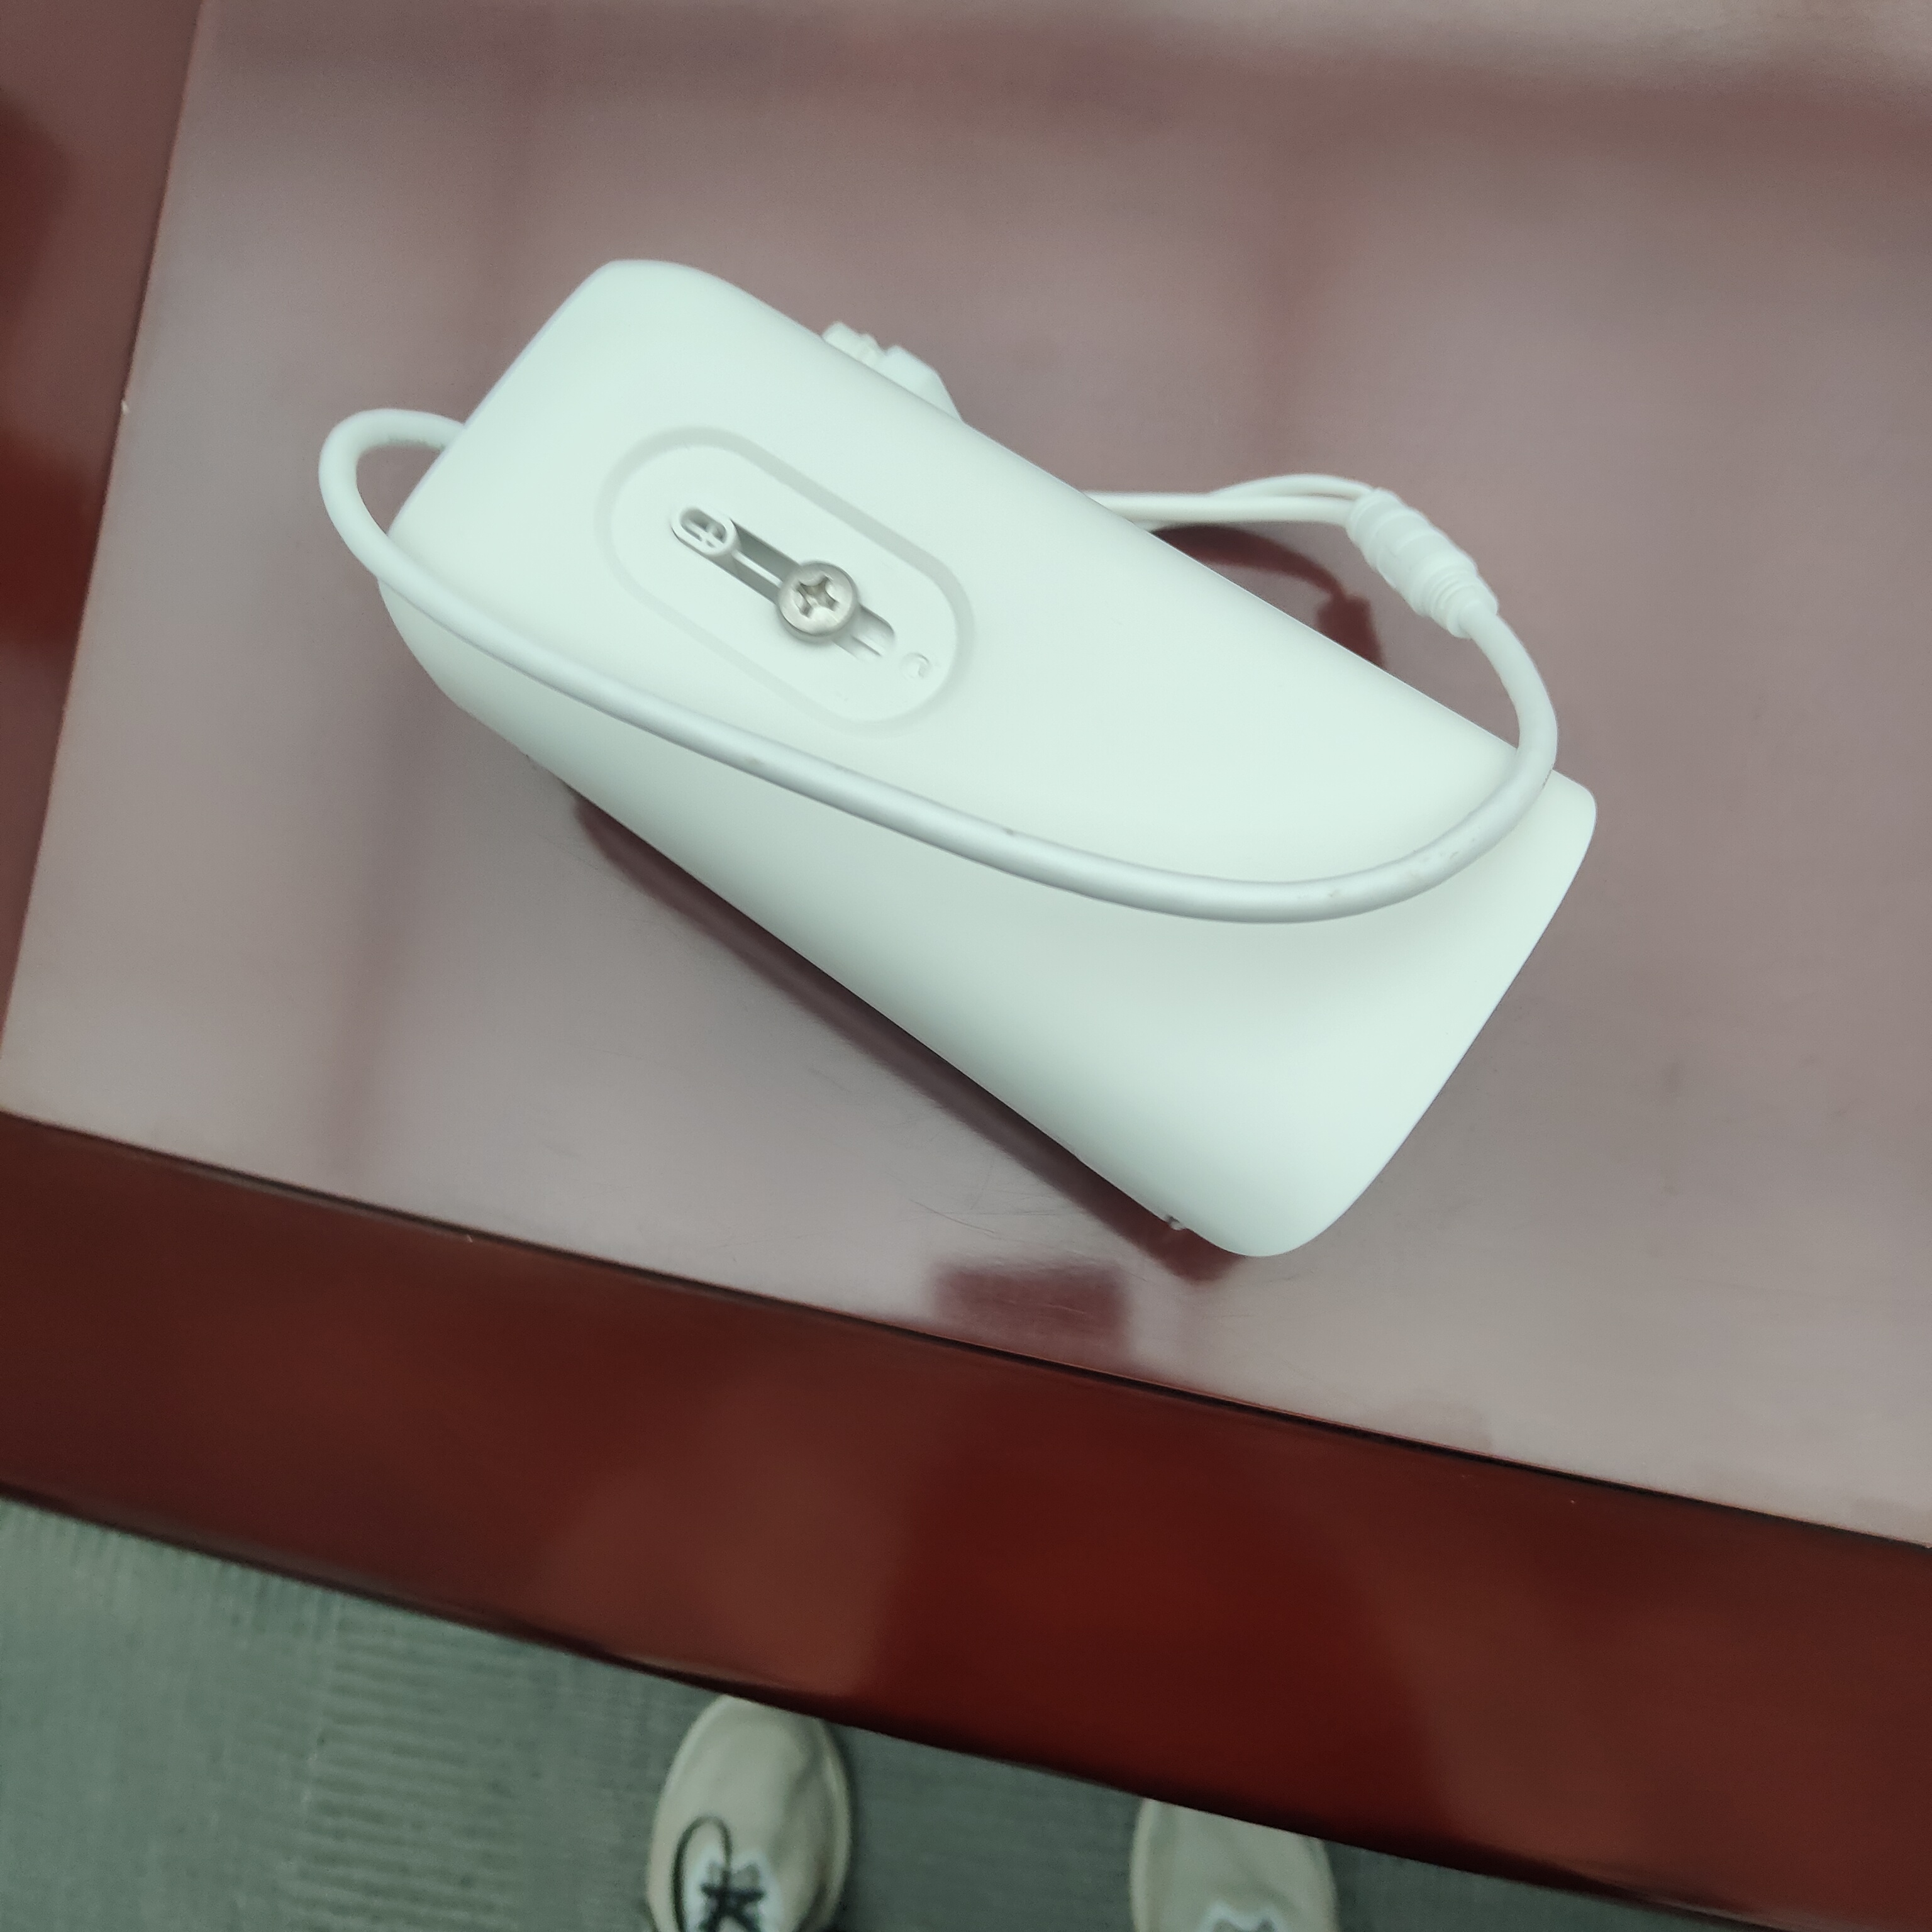hkws: (292, 290, 1686, 1329)
